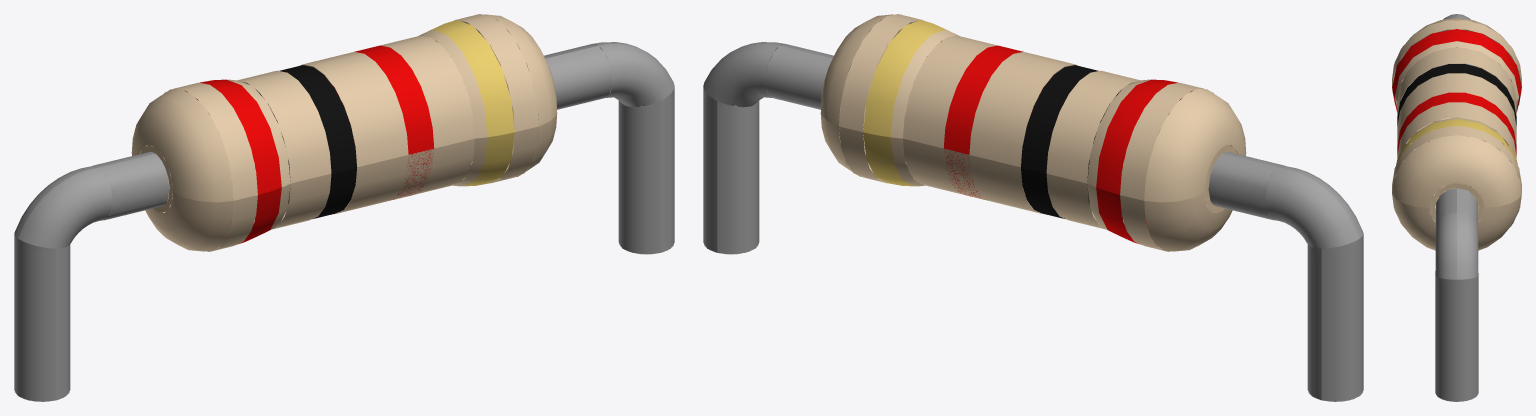
Rendered from 紅黑紅.fbx.
3 renders of one model, left to right at view 1: azimuth 30°, elevation 25°; view 2: azimuth 150°, elevation 25°; view 3: azimuth 270°, elevation 25°, orthographic. The views are drawn at different scales.
Visible parts, largest first — view 1: nurbsToPoly261; view 2: nurbsToPoly261; view 3: nurbsToPoly261.
Part boxes in pixels (x1=…): nurbsToPoly261: x1=14, y1=14, x2=674, y2=401; nurbsToPoly261: x1=703, y1=14, x2=1363, y2=401; nurbsToPoly261: x1=1392, y1=14, x2=1521, y2=401.
Bounding box in the file's own units: 3.19 × 1.21 × 0.7087.
